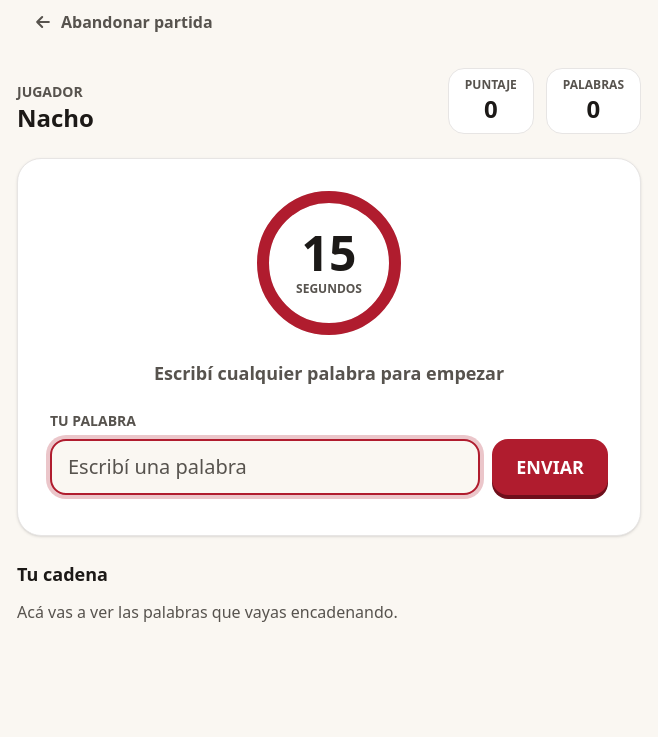
GameScreen abandon button › leaves the game when the player confirms
Later steps or results of the test are not shown.
In the field labelled "Tu palabra": (265, 467) [50,439,480,495], type "casa"
Then press Enter
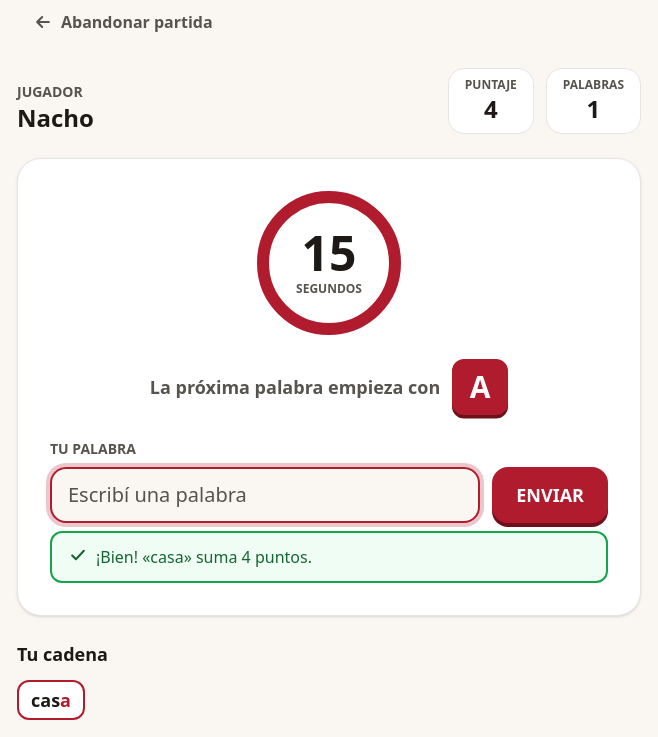
Expected: the text "¡Bien! «casa»" is shown, [96,545,312,569]
